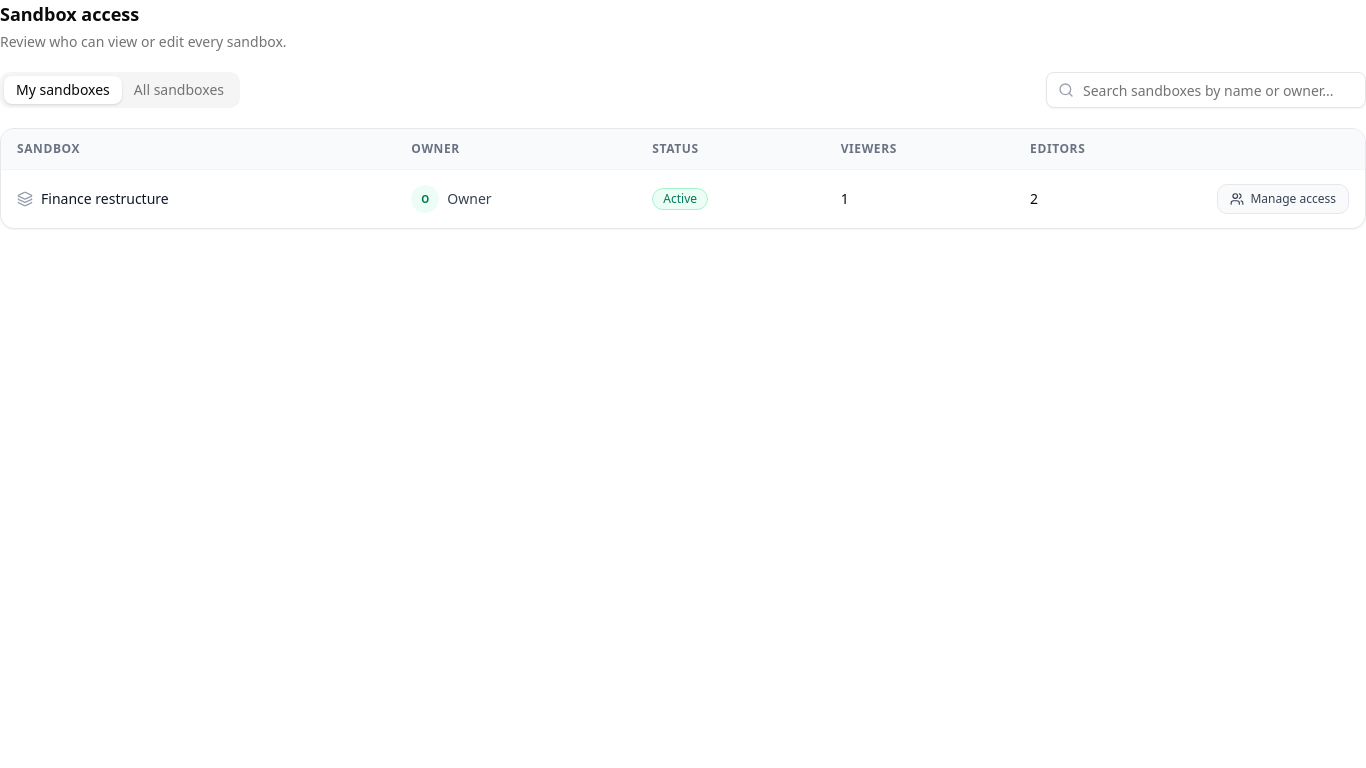
Scenario: sandbox sharing › shows revoked and expired grants in editable organization oversight
Click the button with aria-label "Manage access for Finance restructure" at (1283, 199), box x1=1217 y1=184 x2=1349 y2=214
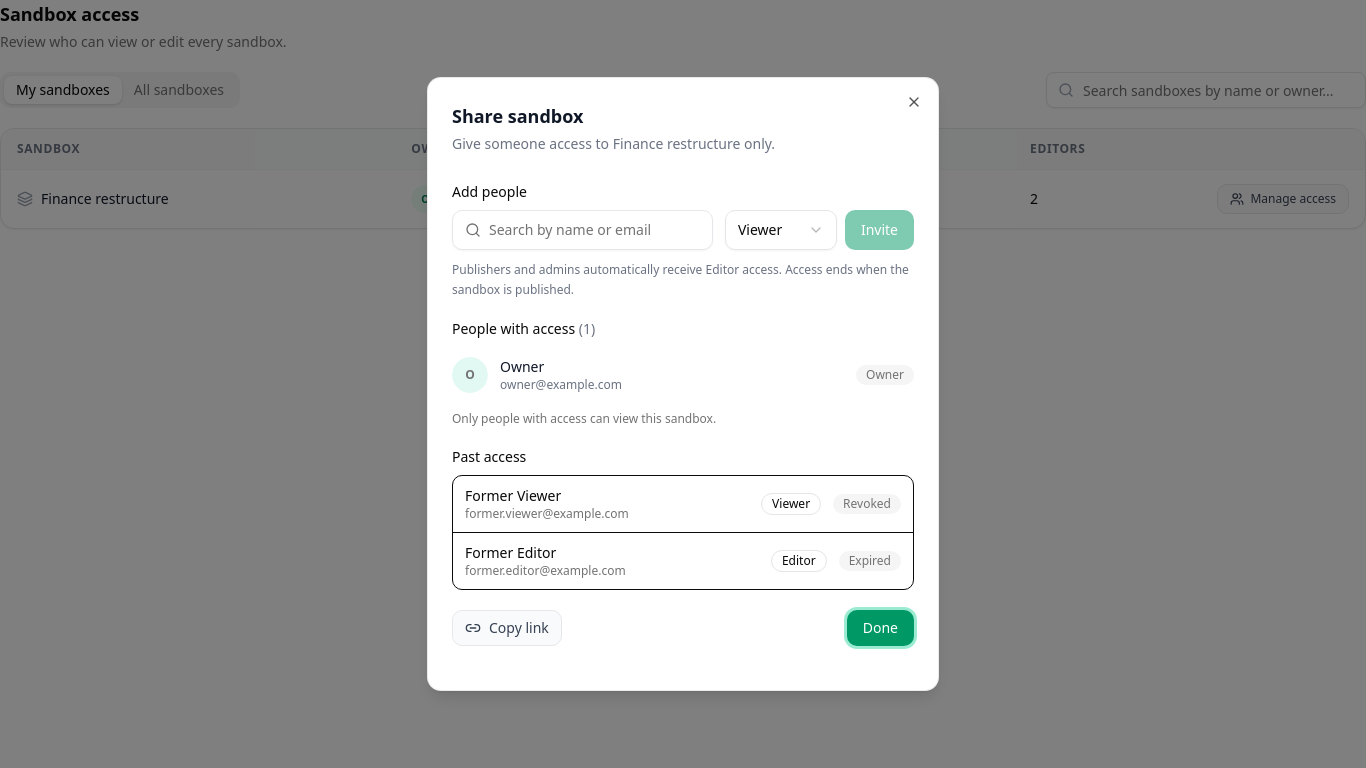
Result: the heading "Past access" is shown at x1=452 y1=447 x2=526 y2=466
Result: the text "Former Viewer" is shown at x1=465 y1=486 x2=561 y2=505
Result: the text "Former Editor" is shown at x1=465 y1=543 x2=556 y2=562
